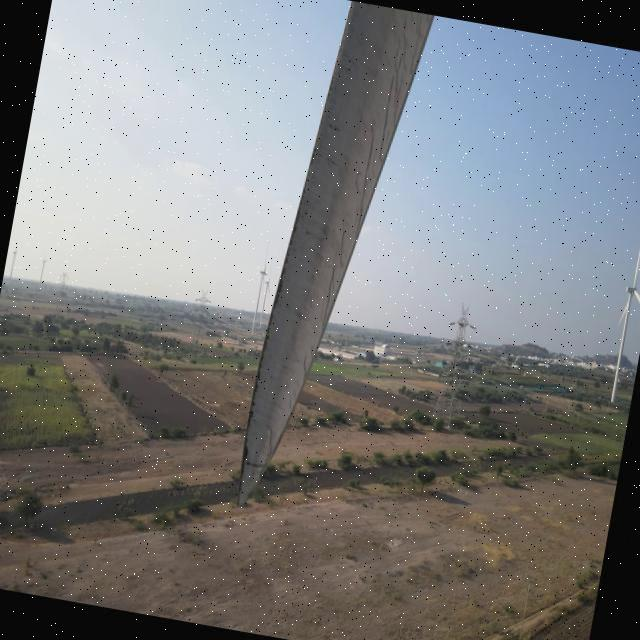Dirt: (233, 17, 442, 510)
Oil LEAKAGE: (240, 265, 288, 469)
